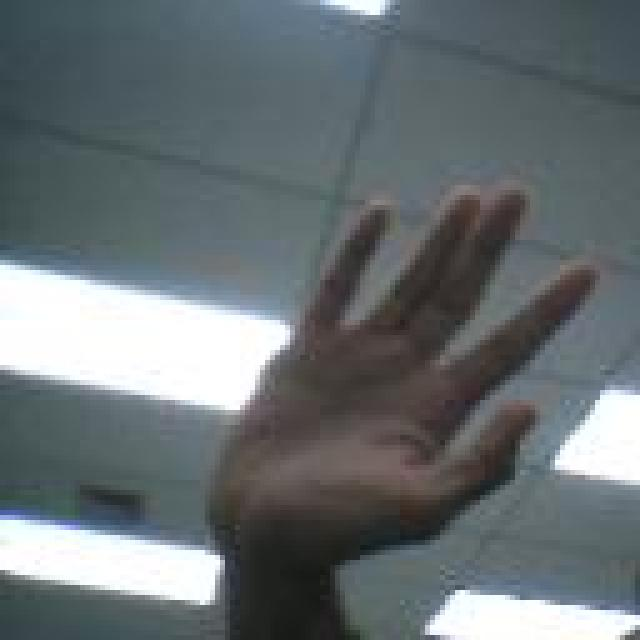hand: (203, 175, 603, 570)
